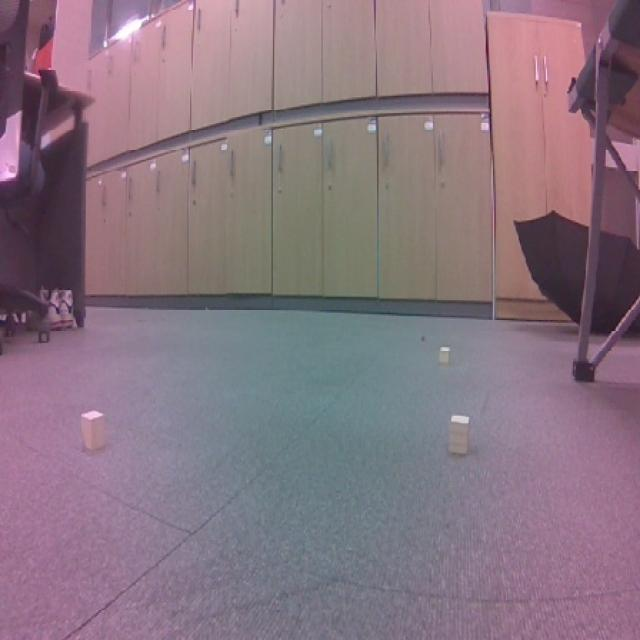obstacle: (74, 398, 116, 461), (437, 410, 481, 464)
